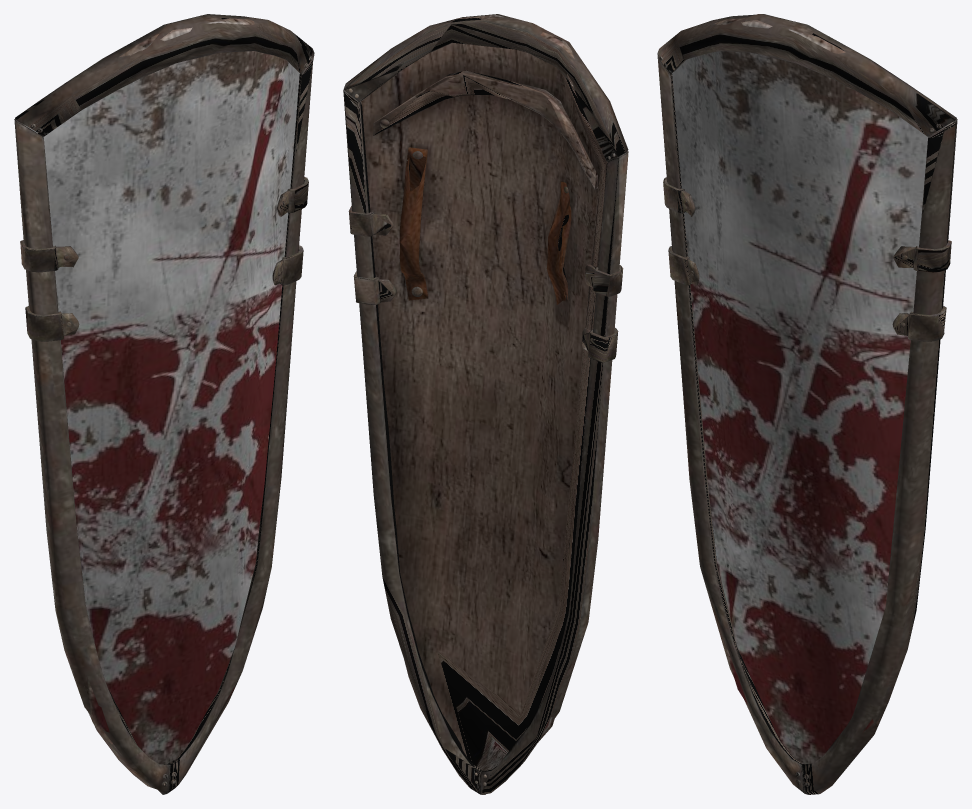
Rendered from shield.glb.
3 renders of one model, left to right at view 1: azimuth 30°, elevation 25°; view 2: azimuth 150°, elevation 25°; view 3: azimuth 330°, elevation 25°, orthographic. The views are drawn at different scales.
Visible parts, largest first — view 1: shield; view 2: shield; view 3: shield.
Part boxes in pixels (x1,y1,x2,y2): shield: (14,14,314,794); shield: (343,14,628,794); shield: (657,14,957,794).
Bounding box in the file's own units: 0.5432 × 1.39 × 0.1347.
Materials: 2 (2 with a texture image).
